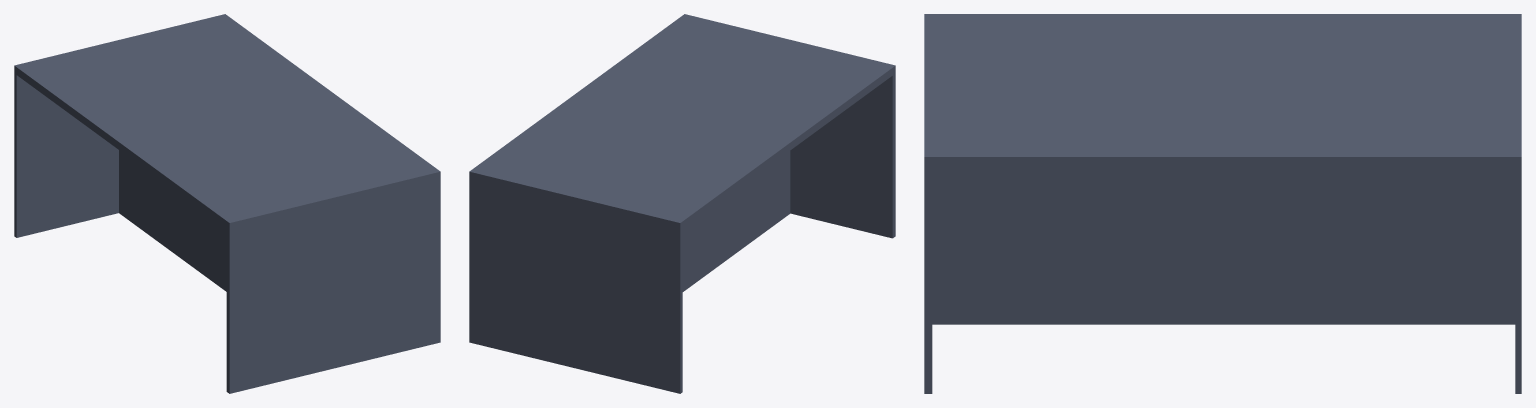
The model's file is librarytable.fbx.
3 views of the same model, side by side, from view 1: azimuth 30°, elevation 25°; view 2: azimuth 150°, elevation 25°; view 3: azimuth 270°, elevation 25° (orthographic). The views are drawn at different scales.
Parts seen in each view (by area): view 1: Cube; view 2: Cube; view 3: Cube.
Part boxes in pixels (left/top/right/bottom): Cube: left=14, top=14, right=440, bottom=393; Cube: left=469, top=14, right=895, bottom=393; Cube: left=924, top=14, right=1521, bottom=393.
Size of the model in its own units: 57.12 by 44.18 by 101.
